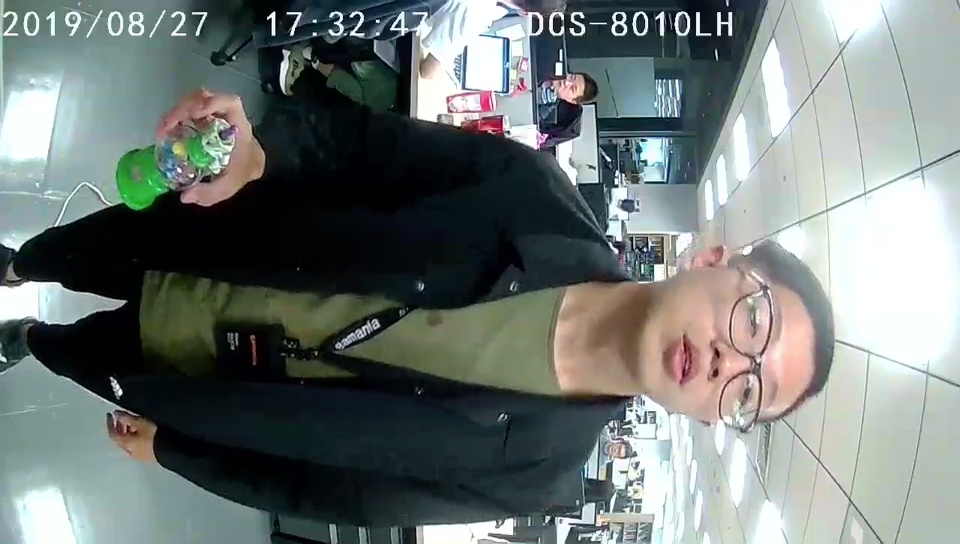buzz: (116, 116, 241, 213)
